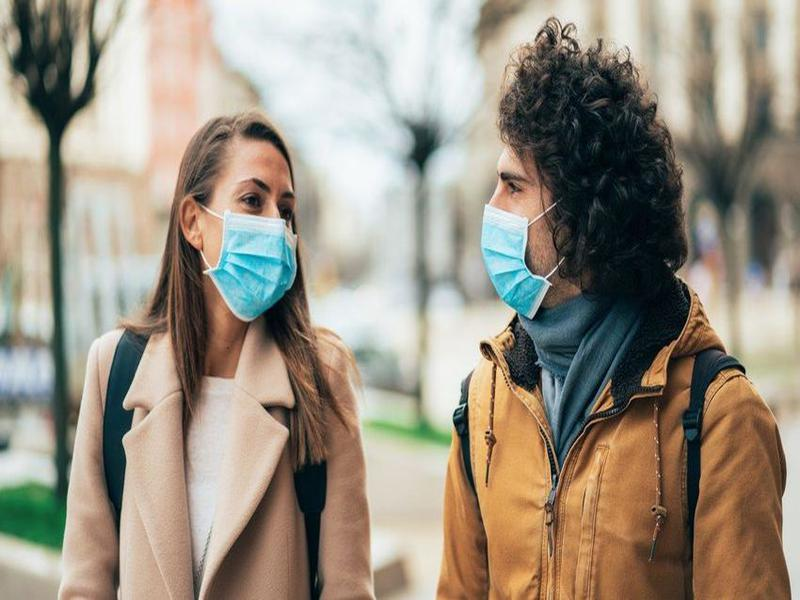mask: (202, 209, 299, 322), (477, 203, 552, 322)
